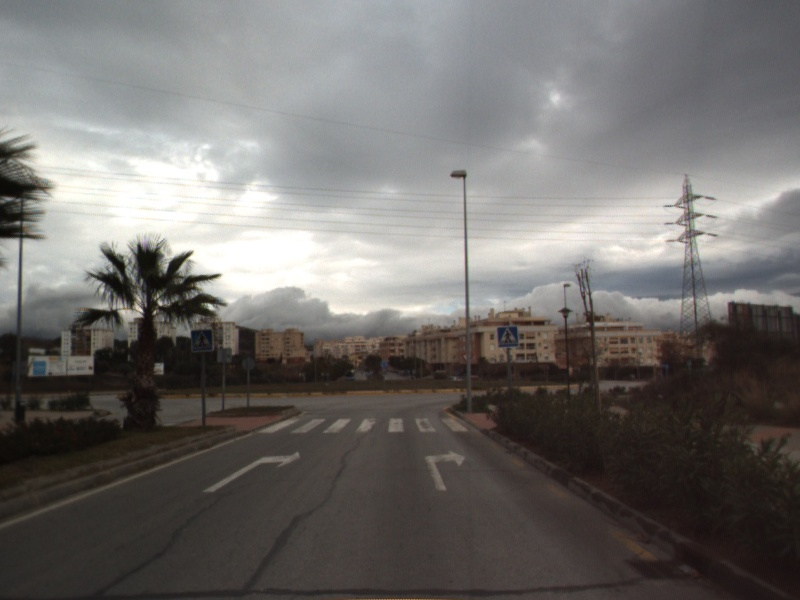RIGHT: (201, 450, 302, 494), (423, 448, 468, 492)
